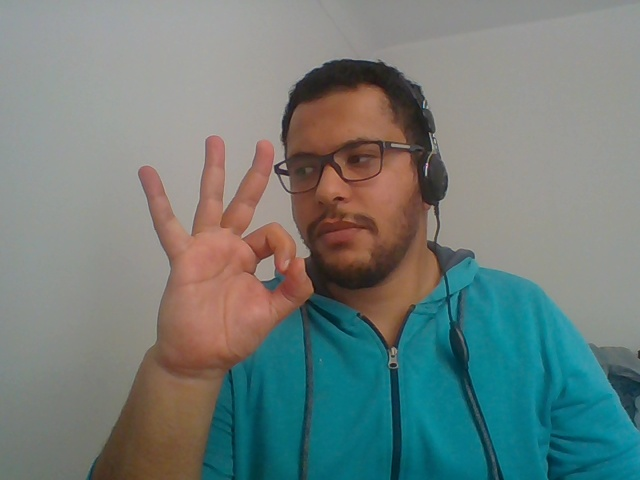okay: (115, 123, 313, 426)
